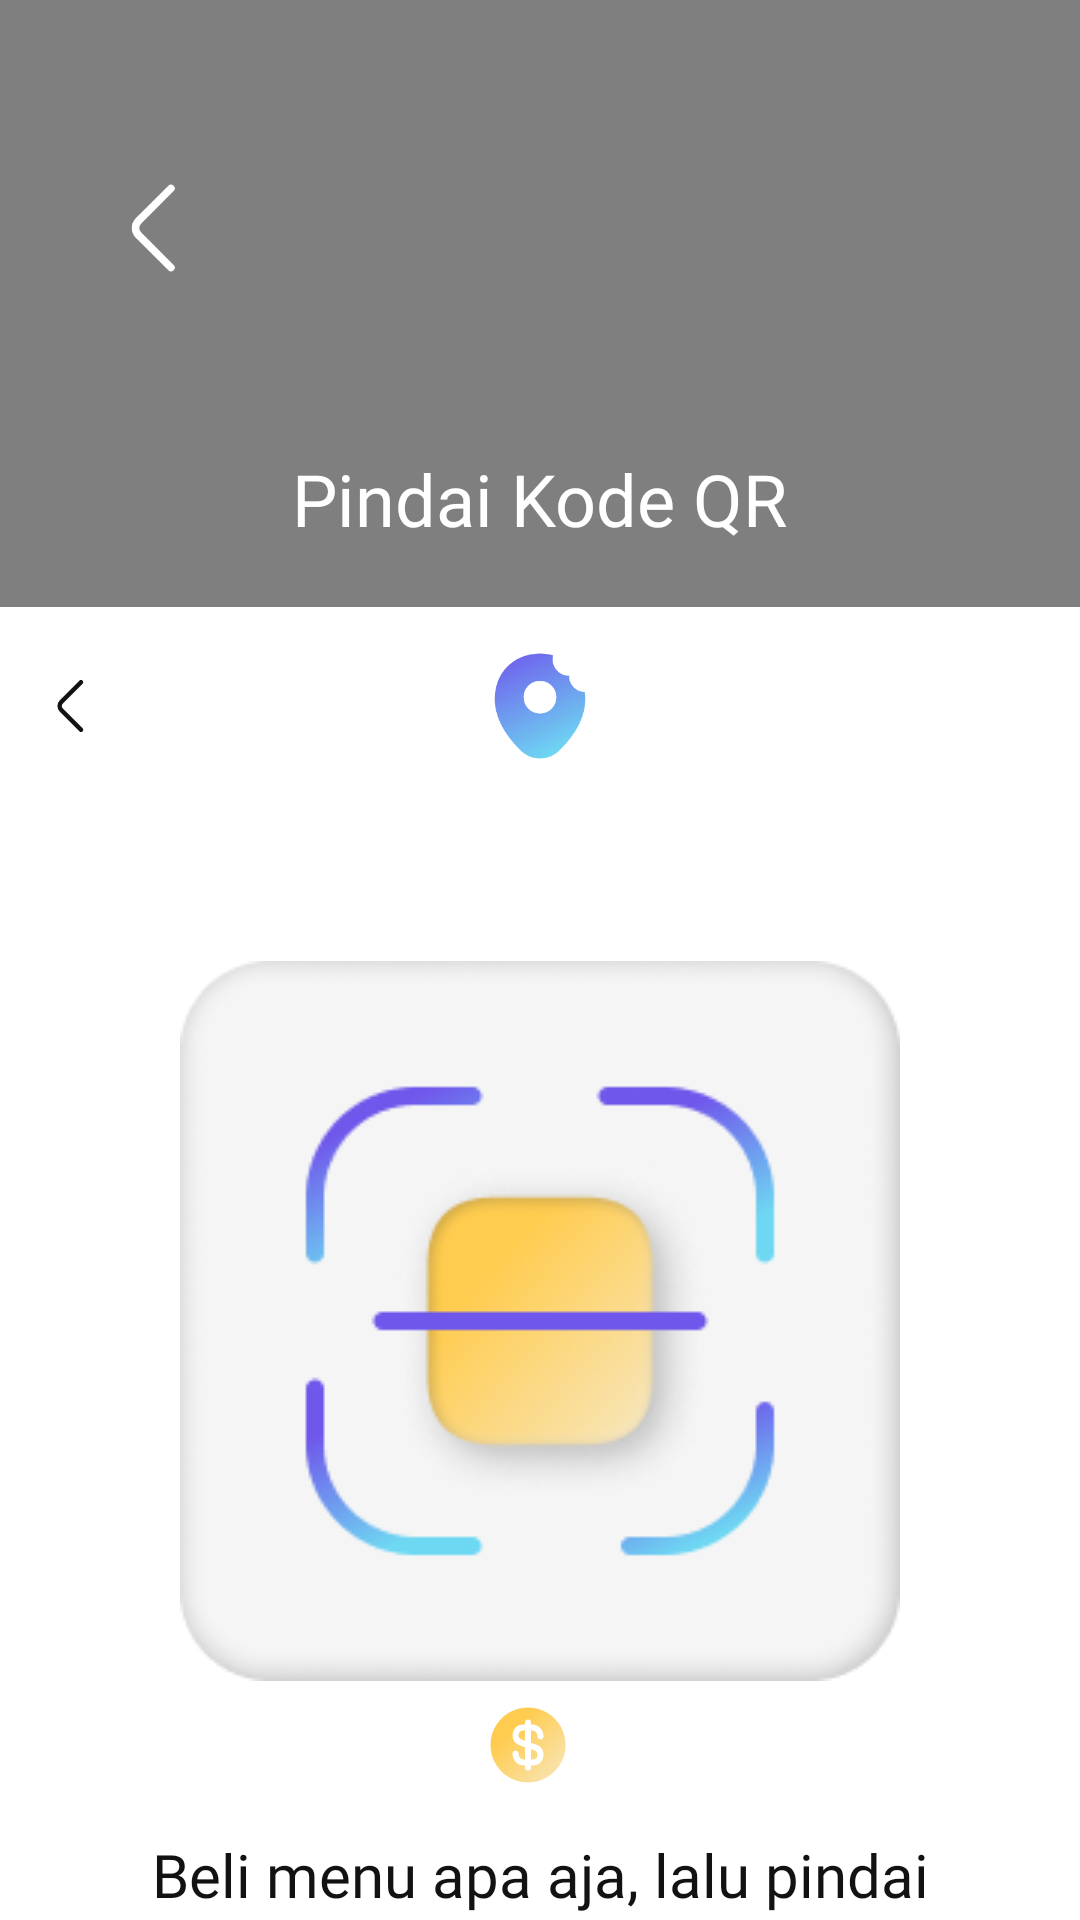

Screen size 1080 × 1920. Icon name, then its center in pixels as point (x, y):
arrow left: point (153, 228), point (70, 706)
